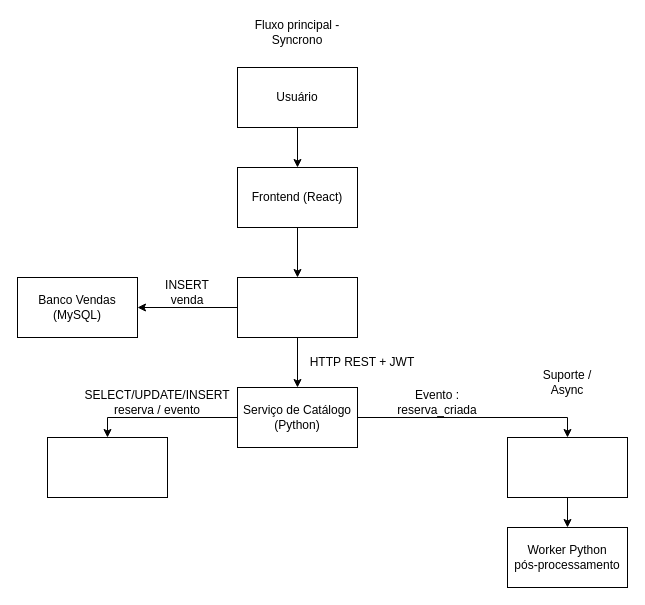
This 645x605 diagram has some shape labels left out. The shapes that lost their labels are listed below. From the top down, each one's centre as x and y in pixels, then its label:
At pixel 297 307: "Serviço de Vendas (PHP)".
At pixel 107 467: "Banco Catálogo (MySQL)".
At pixel 567 467: "RabbitMQ".
